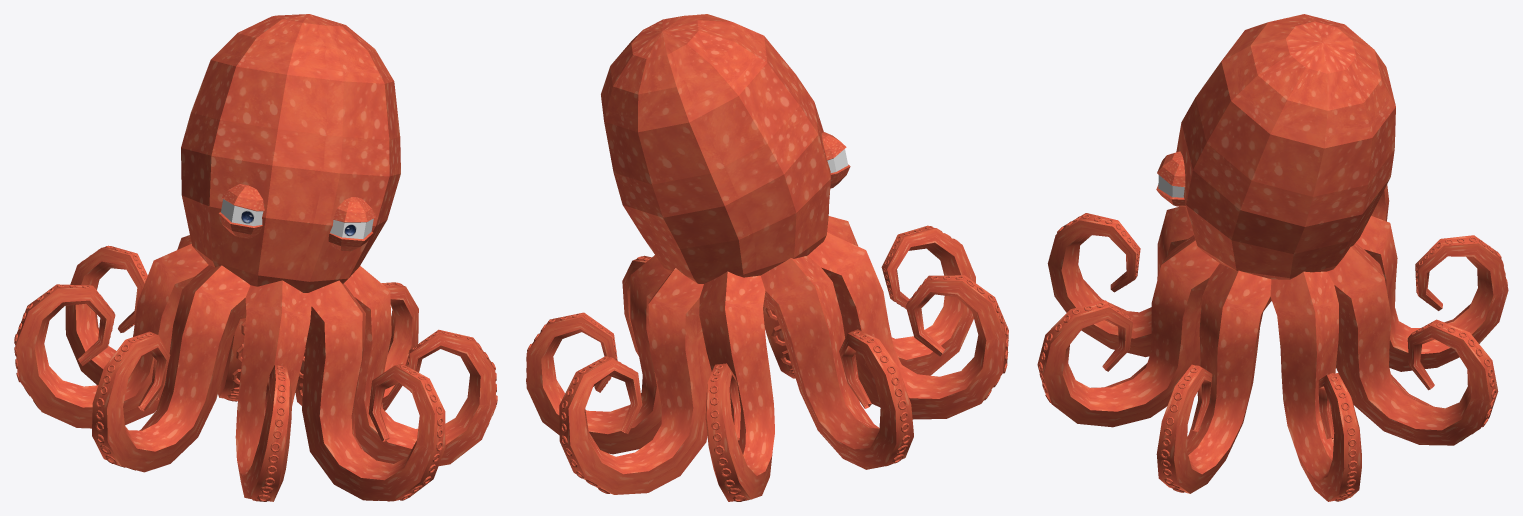
File: pieuvre.fbx
3 views of the same model, side by side, from view 1: azimuth 30°, elevation 25°; view 2: azimuth 150°, elevation 25°; view 3: azimuth 270°, elevation 25° (orthographic).
Visible parts, largest first — view 1: pieuvre; view 2: pieuvre; view 3: pieuvre.
Part boxes in pixels (box(x1,y1,x2,y2)): pieuvre: box(14, 14, 497, 501); pieuvre: box(526, 14, 1008, 501); pieuvre: box(1037, 14, 1508, 501).
Bounding box in the file's own units: 5.06 × 5.21 × 5.16.
